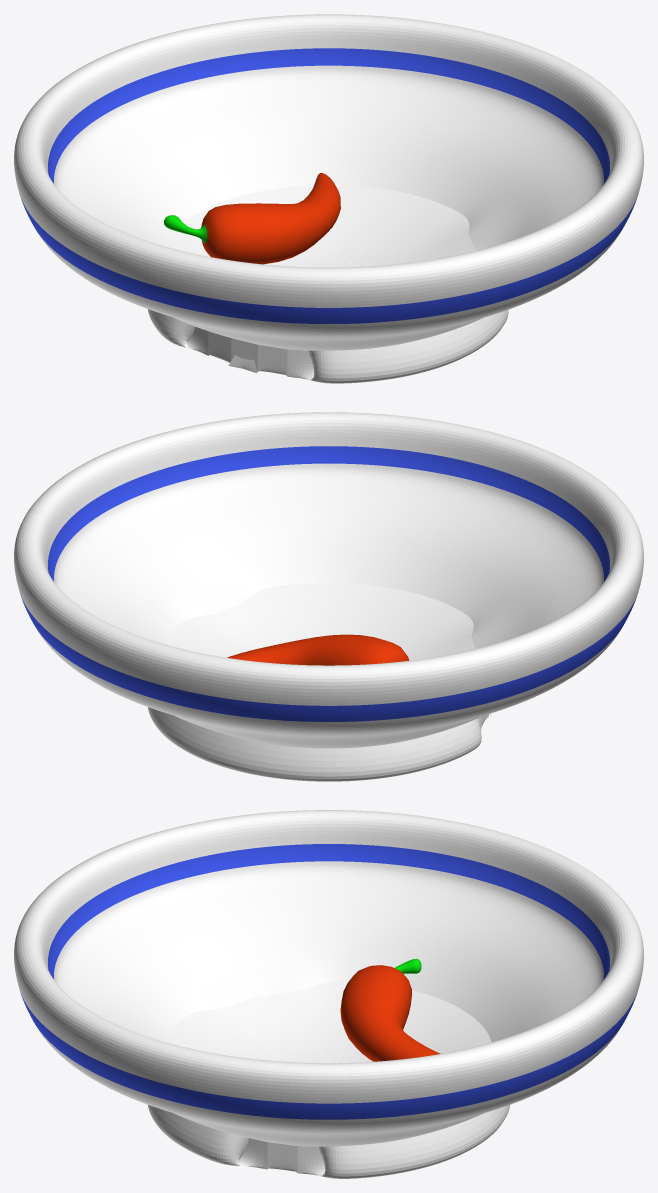
File: bowl_chilli.fbx
3 views of the same model, one above another, from view 1: azimuth 30°, elevation 25°; view 2: azimuth 150°, elevation 25°; view 3: azimuth 270°, elevation 25° (orthographic).
Parts seen in each view (by area): view 1: BowlChilli, Chilli; view 2: BowlChilli, Chilli; view 3: BowlChilli, Chilli.
Part boxes in pixels (x1,y1,x2,y2): BowlChilli: (14,14,643,383); Chilli: (164,173,340,264); BowlChilli: (14,412,643,781); Chilli: (227,634,408,665); BowlChilli: (14,810,643,1178); Chilli: (340,958,440,1061).
Bounding box in the file's own units: 95.18 × 28.13 × 95.18.
Materials: 3 (1 with a texture image).
